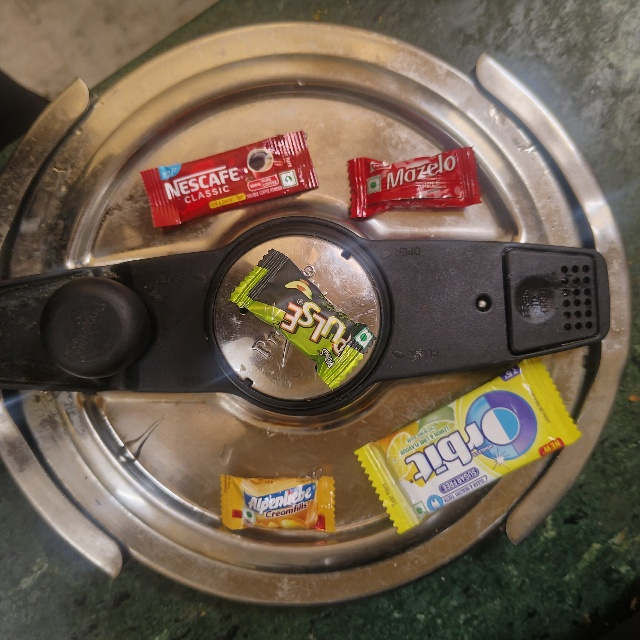Alpenlibe Creamfills: (219, 471, 340, 533)
Mazelo: (347, 161, 482, 221)
Nescafe Coffee: (141, 171, 308, 234)
Orbit: (352, 448, 565, 540)
Pulse: (276, 246, 415, 314)
